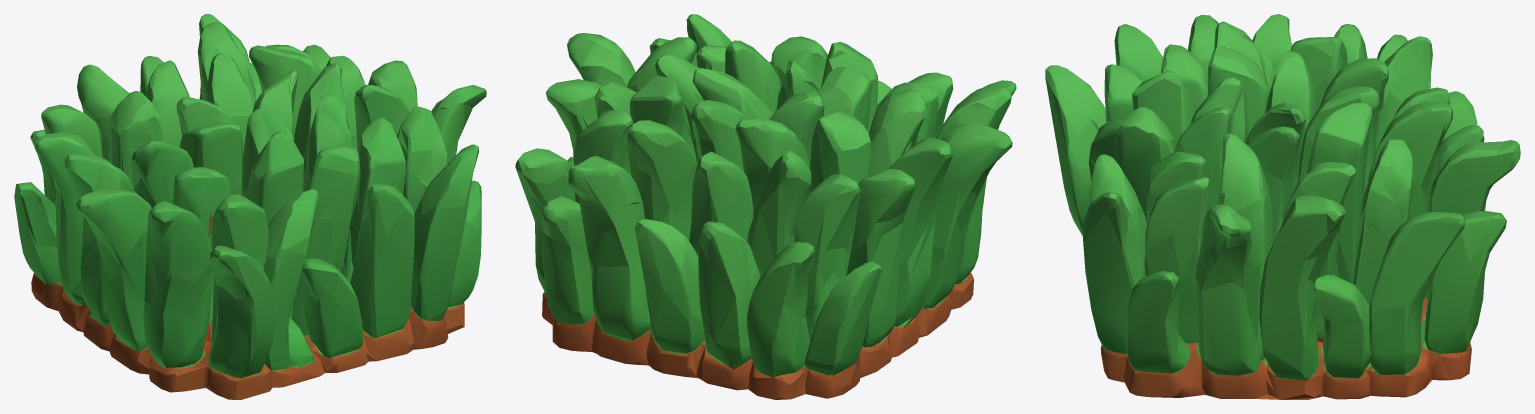
File: tall_grass.glb
The picture shows the model from 3 angles, left to right: view 1: azimuth 30°, elevation 25°; view 2: azimuth 150°, elevation 25°; view 3: azimuth 270°, elevation 25°; orthographic projection. The views are drawn at different scales.
Parts seen in each view (by area): view 1: output_unwrapped; view 2: output_unwrapped; view 3: output_unwrapped.
Part boxes in pixels (bbox=[...]): output_unwrapped: bbox=[14, 14, 486, 399]; output_unwrapped: bbox=[515, 14, 1016, 399]; output_unwrapped: bbox=[1045, 14, 1520, 399].
Bounding box in the file's own units: 1.9 × 0.9844 × 1.76.
1 material, 1 textured.
